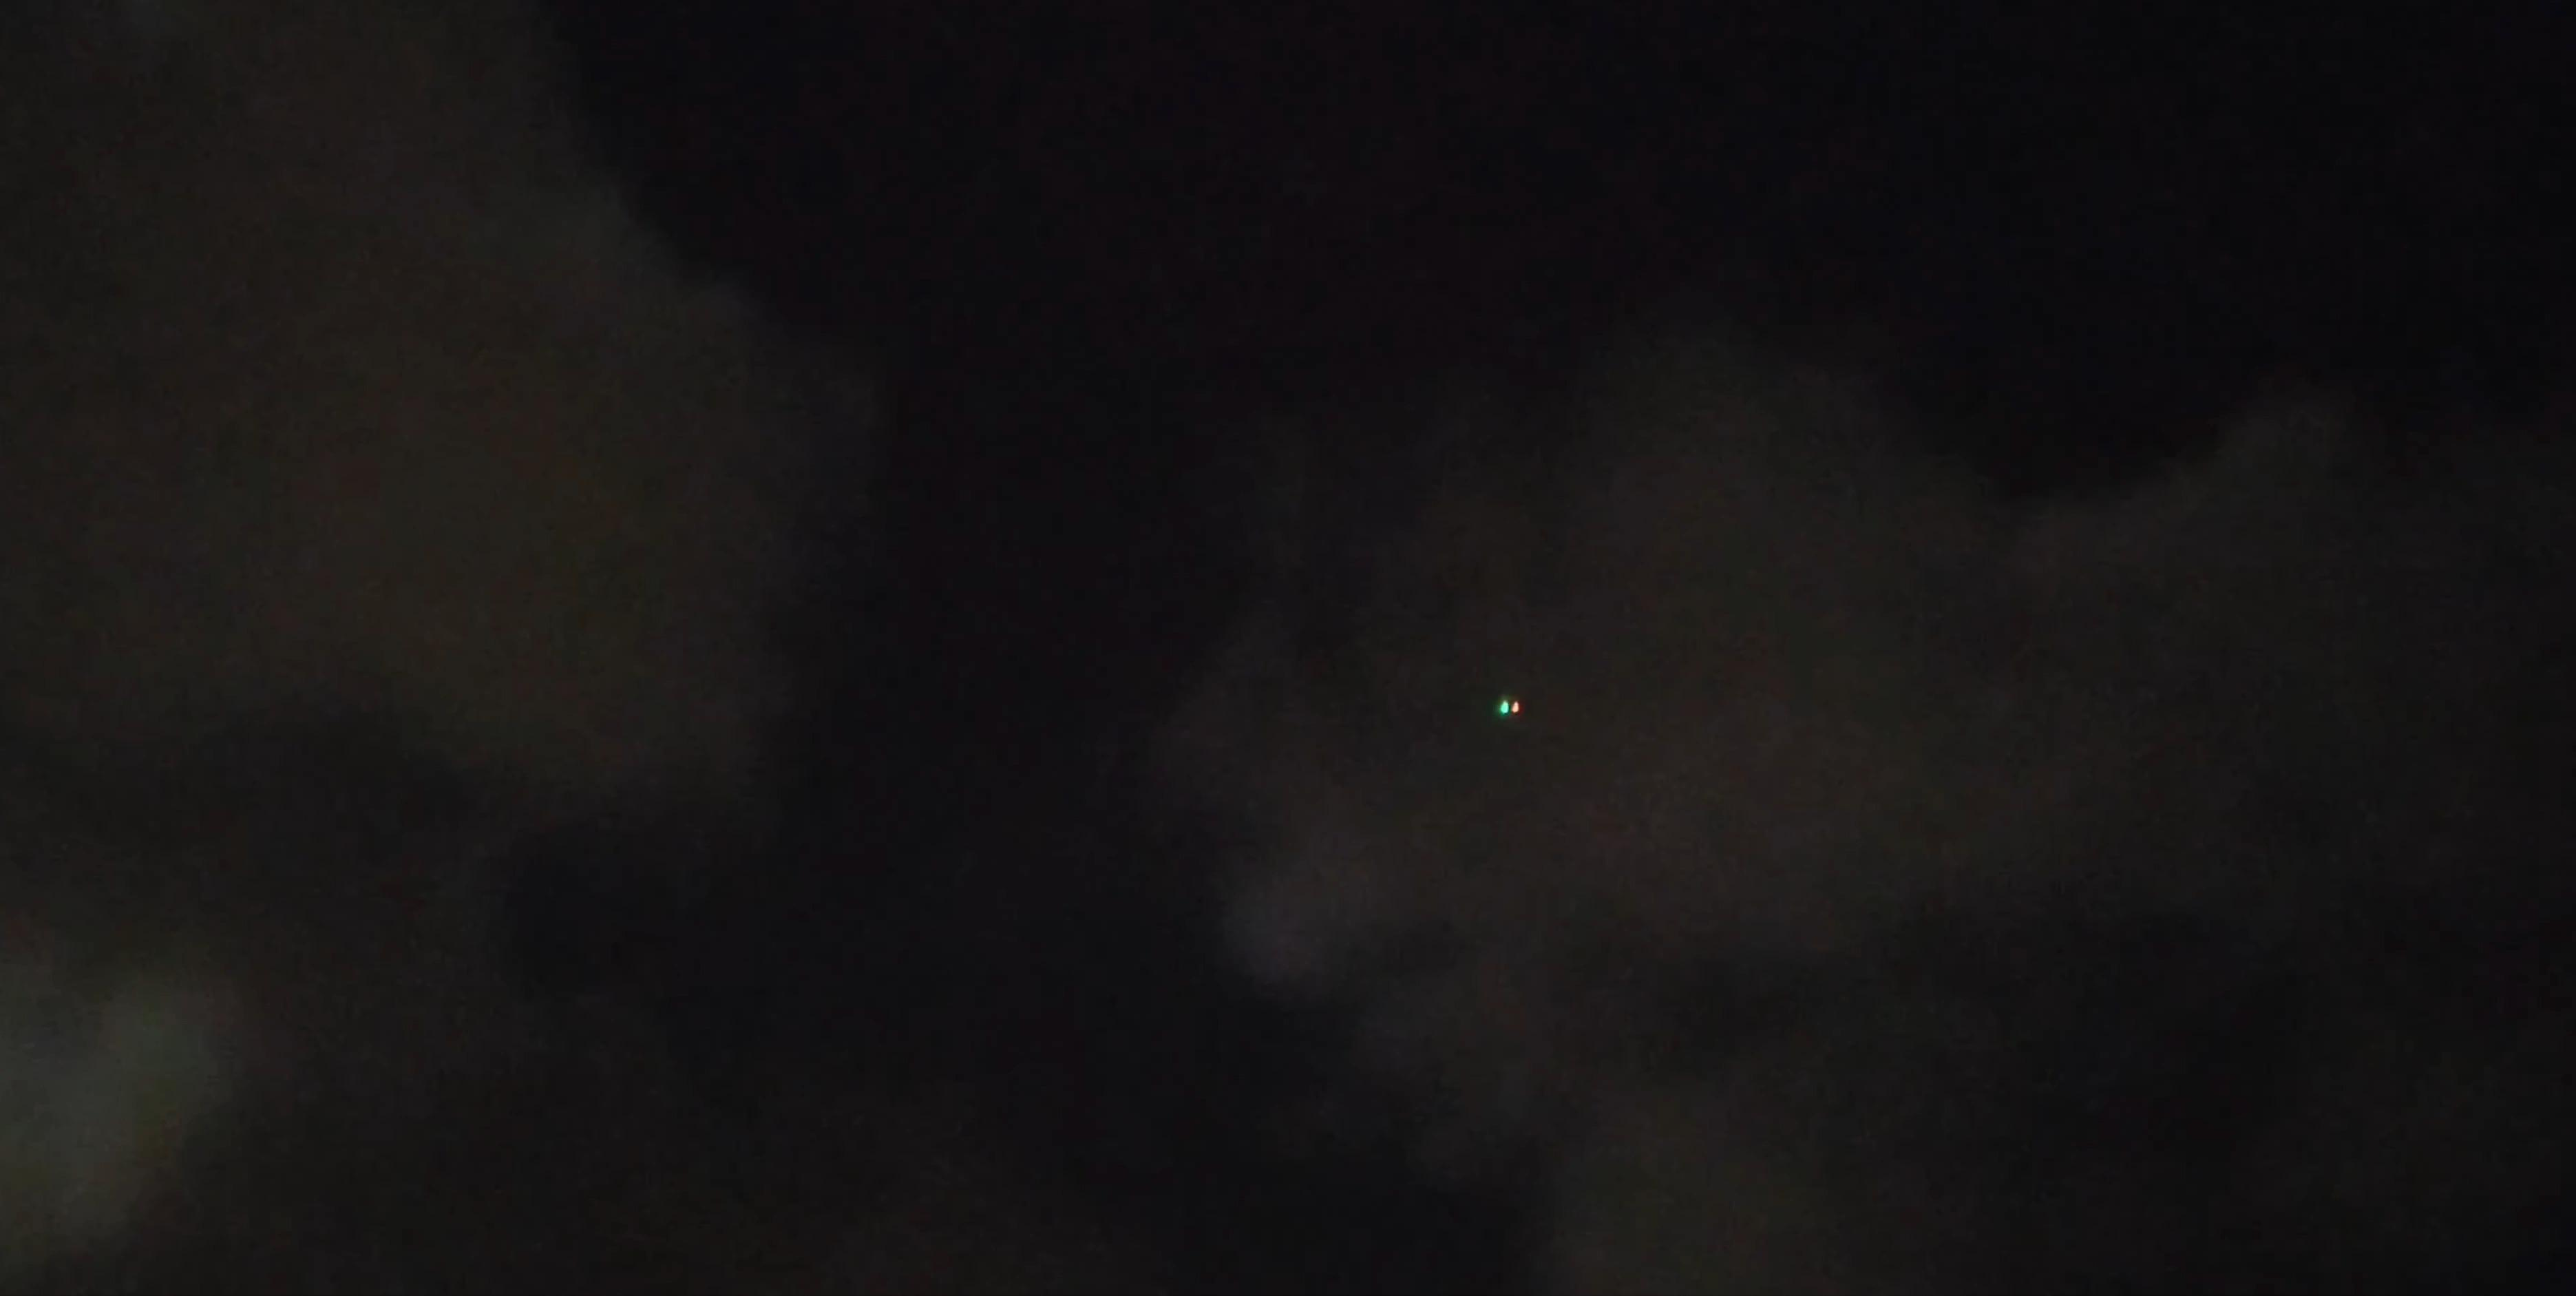Plane: (1487, 686, 1540, 724)
